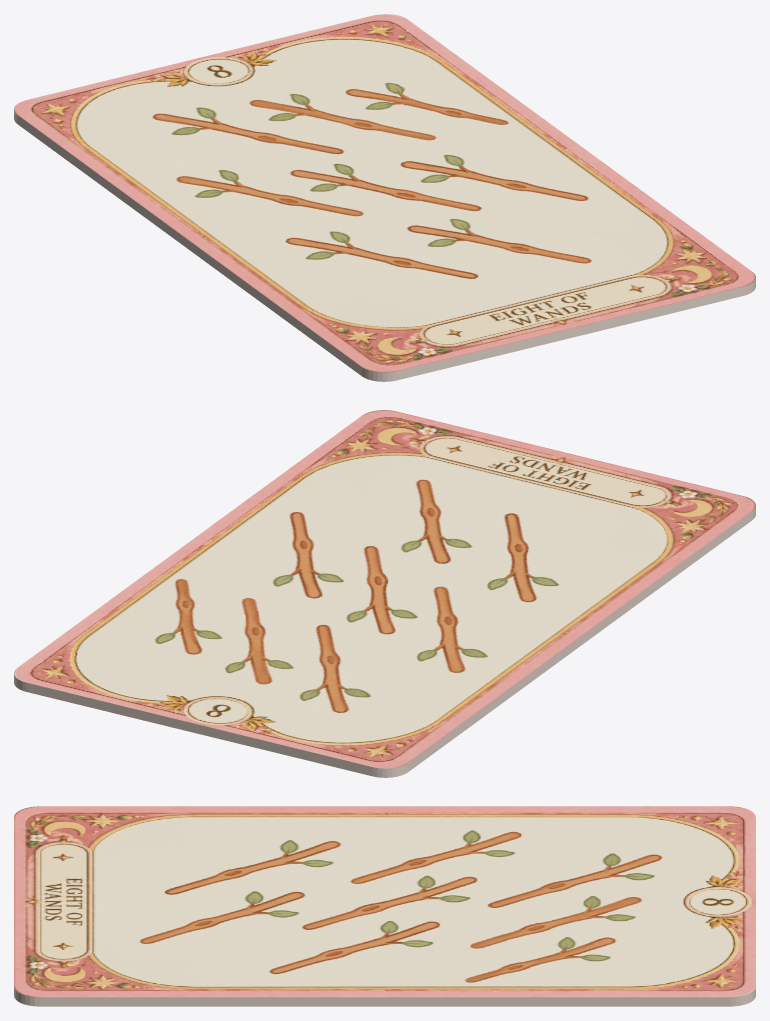
Rendered from eight_of_wands.fbx.
The picture shows the model from 3 angles, top to bottom: view 1: azimuth 30°, elevation 25°; view 2: azimuth 150°, elevation 25°; view 3: azimuth 270°, elevation 25°; orthographic projection.
Parts seen in each view (by area): view 1: eight_of_wands; view 2: eight_of_wands; view 3: eight_of_wands.
Boxes of the visible parts, x1,y1,x2,y2 form: eight_of_wands: [14, 14, 755, 381]; eight_of_wands: [14, 410, 755, 777]; eight_of_wands: [14, 806, 755, 1006].
Size of the model in its own units: 7 by 0.16 by 11.5.
3 materials, 2 textured.
